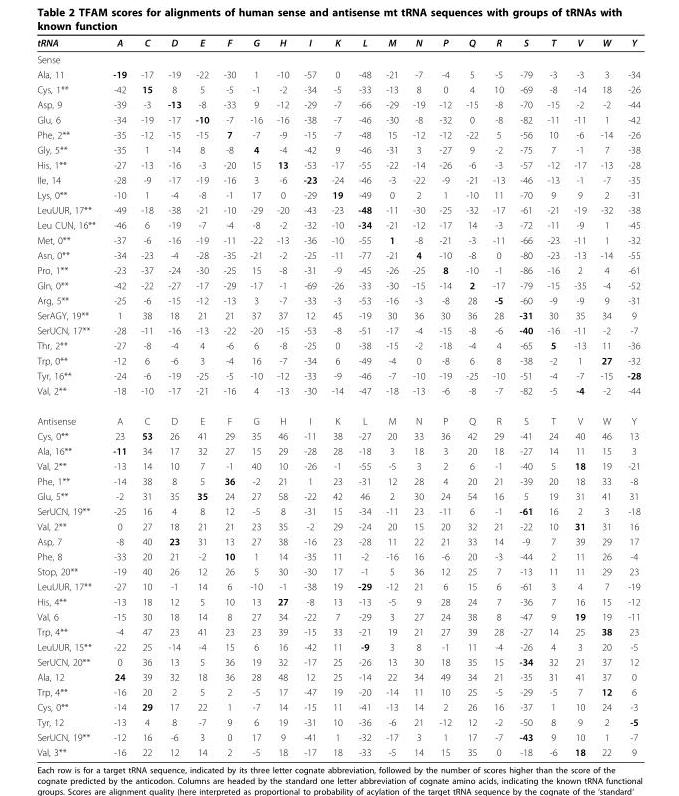table: (36, 36, 640, 757)
table column: (36, 36, 103, 757), (103, 36, 133, 757), (159, 36, 187, 757), (187, 36, 215, 757), (295, 36, 323, 757), (350, 36, 378, 757), (511, 36, 539, 757), (215, 36, 242, 757), (242, 36, 269, 757), (323, 36, 350, 757), (404, 36, 431, 757), (431, 36, 458, 757), (484, 36, 511, 757), (539, 36, 566, 757), (592, 36, 619, 757), (133, 36, 159, 757), (269, 36, 295, 757), (378, 36, 404, 757), (458, 36, 484, 757), (566, 36, 592, 757), (619, 36, 640, 757)
table column header: (36, 36, 640, 50)
table projected row header: (36, 50, 640, 66)
table row: (36, 382, 640, 405), (36, 405, 640, 428), (36, 50, 640, 66), (36, 171, 640, 187), (36, 653, 640, 669), (36, 66, 640, 81), (36, 81, 640, 96), (36, 96, 640, 111), (36, 111, 640, 126), (36, 126, 640, 141), (36, 141, 640, 156), (36, 156, 640, 171), (36, 187, 640, 202), (36, 202, 640, 217), (36, 217, 640, 232), (36, 232, 640, 247), (36, 247, 640, 262), (36, 262, 640, 277), (36, 277, 640, 292), (36, 292, 640, 307), (36, 307, 640, 322), (36, 322, 640, 337), (36, 337, 640, 352), (36, 352, 640, 367), (36, 367, 640, 382), (36, 428, 640, 443), (36, 443, 640, 458), (36, 458, 640, 473), (36, 473, 640, 488), (36, 488, 640, 503), (36, 503, 640, 518), (36, 518, 640, 533), (36, 533, 640, 548), (36, 548, 640, 563), (36, 563, 640, 578), (36, 578, 640, 593), (36, 593, 640, 608), (36, 608, 640, 623), (36, 623, 640, 638), (36, 638, 640, 653), (36, 669, 640, 684), (36, 684, 640, 699), (36, 699, 640, 714), (36, 714, 640, 729), (36, 729, 640, 744), (36, 36, 640, 50), (36, 744, 640, 757)
